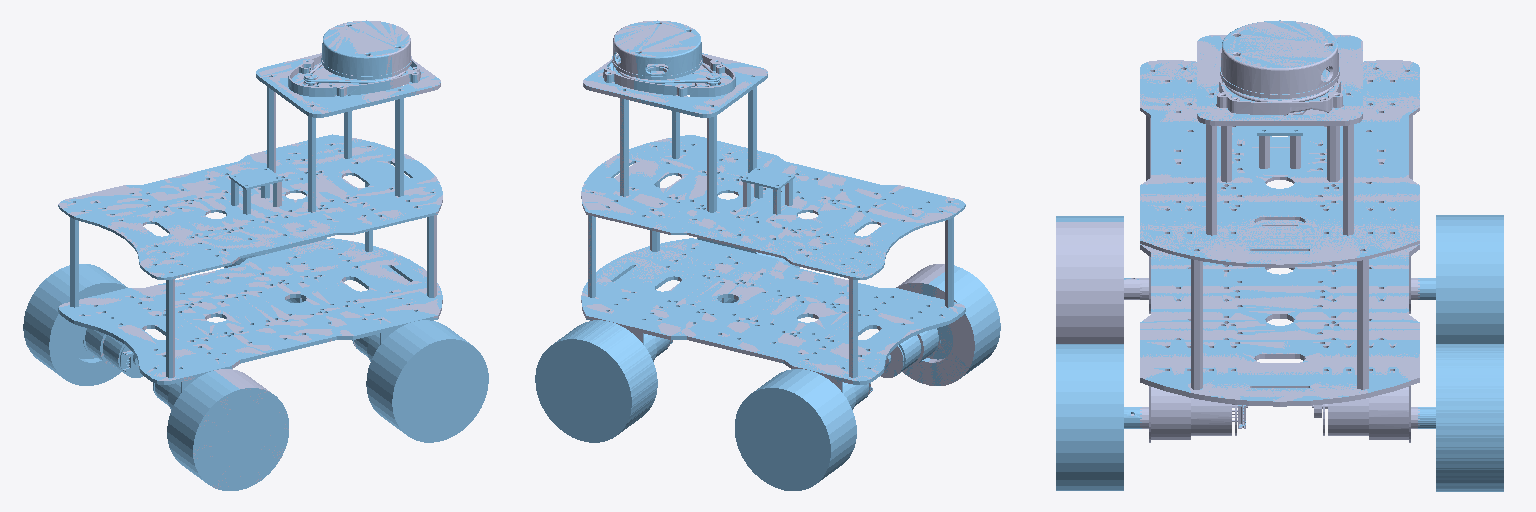
The robot description file, URDF, robot "amr":
<?xml version="1.0" encoding="utf-8"?>
<!-- This URDF was automatically created by SolidWorks to URDF Exporter! Originally created by Stephen Brawner (brawner@gmail.com)
     Commit Version: 1.6.0-4-g7f85cfe  Build Version: 1.6.7995.38578
     For more information, please see http://wiki.ros.org/sw_urdf_exporter -->
<robot
  name="amr">
  <link
    name="base_link">
    <inertial>
      <origin
        xyz="0.0044782147453029 -5.0141675046928E-06 -0.0136543452666141"
        rpy="0 0 0" />
      <mass
        value="1.14425821971134" />
      <inertia
        ixx="0.000779011035824372"
        ixy="-3.98443002922969E-07"
        ixz="-1.13246997157395E-07"
        iyy="0.00156380548586875"
        iyz="-3.1534699776021E-08"
        izz="0.00170358111834897" />
    </inertial>
    <visual>
      <origin
        xyz="0 0 0"
        rpy="0 0 0" />
      <geometry>
        <mesh
          filename="package://amr_description/meshes/base_link.STL" />
      </geometry>
      <material
        name="">
        <color
          rgba="0.611764705882353 0.835294117647059 1 1" />
      </material>
    </visual>
    <collision>
      <origin
        xyz="0 0 0"
        rpy="0 0 0" />
      <geometry>
        <mesh
          filename="package://amr_description/meshes/base_link.STL" />
      </geometry>
    </collision>
  </link>
  <link
    name="LiDAR_Link">
    <inertial>
      <origin
        xyz="-0.079672 -0.0001513 -0.16965"
        rpy="0 0 0" />
      <mass
        value="0.42927" />
      <inertia
        ixx="0.00040576"
        ixy="-4.0121E-07"
        ixz="-1.1333E-07"
        iyy="0.0009748"
        iyz="-3.3591E-08"
        izz="0.0013302" />
    </inertial>
    <visual>
      <origin
        xyz="0 0 0"
        rpy="0 0 0" />
      <geometry>
        <mesh
          filename="package://amr_description/meshes/LiDAR_Link.STL" />
      </geometry>
      <material
        name="">
        <color
          rgba="0.79216 0.81961 0.93333 1" />
      </material>
    </visual>
    <collision>
      <origin
        xyz="0 0 0"
        rpy="0 0 0" />
      <geometry>
        <mesh
          filename="package://amr_description/meshes/LiDAR_Link.STL" />
      </geometry>
    </collision>
  </link>
  <joint
    name="base-lidar_joint"
    type="fixed">
    <origin
      xyz="0.091609 0.00013794 0.192"
      rpy="0 0 0" />
    <parent
      link="base_link" />
    <child
      link="LiDAR_Link" />
    <axis
      xyz="0 0 0" />
  </joint>
  <link
    name="IMU_Link">
    <inertial>
      <origin
        xyz="0.006828 -5.6201E-07 -0.092633"
        rpy="0 0 0" />
      <mass
        value="0.39923" />
      <inertia
        ixx="0.00039695"
        ixy="-2.7396E-07"
        ixz="1.3304E-16"
        iyy="0.0009604"
        iyz="-6.4092E-15"
        izz="0.0013079" />
    </inertial>
    <visual>
      <origin
        xyz="0 0 0"
        rpy="0 0 0" />
      <geometry>
        <mesh
          filename="package://amr_description/meshes/IMU_Link.STL" />
      </geometry>
      <material
        name="">
        <color
          rgba="0.79216 0.81961 0.93333 1" />
      </material>
    </visual>
    <collision>
      <origin
        xyz="0 0 0"
        rpy="0 0 0" />
      <geometry>
        <mesh
          filename="package://amr_description/meshes/IMU_Link.STL" />
      </geometry>
    </collision>
  </link>
  <joint
    name="base-imu_joint"
    type="fixed">
    <origin
      xyz="0 0 0.1036"
      rpy="0 0 0" />
    <parent
      link="base_link" />
    <child
      link="IMU_Link" />
    <axis
      xyz="0 0 0" />
  </joint>
  <link
    name="front-left-wheel_link">
    <inertial>
      <origin
        xyz="-0.052234 -0.07097 0.031893"
        rpy="0 0 0" />
      <mass
        value="0.57648" />
      <inertia
        ixx="0.00049018"
        ixy="-2.7274E-07"
        ixz="1.2728E-10"
        iyy="0.0011075"
        iyz="8.0386E-10"
        izz="0.001401" />
    </inertial>
    <visual>
      <origin
        xyz="0 0 0"
        rpy="0 0 0" />
      <geometry>
        <mesh
          filename="package://amr_description/meshes/front-left-wheel_link.STL" />
      </geometry>
      <material
        name="">
        <color
          rgba="0.61176 0.83529 1 1" />
      </material>
    </visual>
    <collision>
      <origin
        xyz="0 0 0"
        rpy="0 0 0" />
      <geometry>
        <mesh
          filename="package://amr_description/meshes/front-left-wheel_link.STL" />
      </geometry>
    </collision>
  </link>
  <joint
    name="base-front-left-wheel_joint"
    type="continuous">
    <origin
      xyz="0.0825 0.1031 -0.0355"
      rpy="0 0 0" />
    <parent
      link="base_link" />
    <child
      link="front-left-wheel_link" />
    <axis
      xyz="0 -1 0" />
  </joint>
  <link
    name="rear-left-wheel_link">
    <inertial>
      <origin
        xyz="0.061691 -0.07097 0.031892"
        rpy="0 0 0" />
      <mass
        value="0.57648" />
      <inertia
        ixx="0.00049018"
        ixy="-2.7316E-07"
        ixz="-1.2674E-10"
        iyy="0.0011075"
        iyz="-1.2292E-09"
        izz="0.001401" />
    </inertial>
    <visual>
      <origin
        xyz="0 0 0"
        rpy="0 0 0" />
      <geometry>
        <mesh
          filename="package://amr_description/meshes/rear-left-wheel_link.STL" />
      </geometry>
      <material
        name="">
        <color
          rgba="0.61176 0.83529 1 1" />
      </material>
    </visual>
    <collision>
      <origin
        xyz="0 0 0"
        rpy="0 0 0" />
      <geometry>
        <mesh
          filename="package://amr_description/meshes/rear-left-wheel_link.STL" />
      </geometry>
    </collision>
  </link>
  <joint
    name="base-rear-left-wheel_joint"
    type="continuous">
    <origin
      xyz="-0.0825 0.1031 -0.0355"
      rpy="0 0 0" />
    <parent
      link="base_link" />
    <child
      link="rear-left-wheel_link" />
    <axis
      xyz="0 -1 0" />
  </joint>
  <link
    name="front-right-wheel_link">
    <inertial>
      <origin
        xyz="-0.052234 0.070969 0.031892"
        rpy="0 0 0" />
      <mass
        value="0.57648" />
      <inertia
        ixx="0.00049018"
        ixy="-2.7293E-07"
        ixz="1.3874E-10"
        iyy="0.0011075"
        iyz="1.0437E-09"
        izz="0.001401" />
    </inertial>
    <visual>
      <origin
        xyz="0 0 0"
        rpy="0 0 0" />
      <geometry>
        <mesh
          filename="package://amr_description/meshes/front-right-wheel_link.STL" />
      </geometry>
      <material
        name="">
        <color
          rgba="0.61176 0.83529 1 1" />
      </material>
    </visual>
    <collision>
      <origin
        xyz="0 0 0"
        rpy="0 0 0" />
      <geometry>
        <mesh
          filename="package://amr_description/meshes/front-right-wheel_link.STL" />
      </geometry>
    </collision>
  </link>
  <joint
    name="base-front-right-wheel_joint"
    type="continuous">
    <origin
      xyz="0.0825 -0.1031 -0.0355"
      rpy="0 0 0" />
    <parent
      link="base_link" />
    <child
      link="front-right-wheel_link" />
    <axis
      xyz="0 1 0" />
  </joint>
  <link
    name="rear-right-wheel_link">
    <inertial>
      <origin
        xyz="0.061691 0.070969 0.031892"
        rpy="0 0 0" />
      <mass
        value="0.57648" />
      <inertia
        ixx="0.00049018"
        ixy="-2.7424E-07"
        ixz="-5.2383E-11"
        iyy="0.0011075"
        iyz="1.4381E-09"
        izz="0.001401" />
    </inertial>
    <visual>
      <origin
        xyz="0 0 0"
        rpy="0 0 0" />
      <geometry>
        <mesh
          filename="package://amr_description/meshes/rear-right-wheel_link.STL" />
      </geometry>
      <material
        name="">
        <color
          rgba="0.61176 0.83529 1 1" />
      </material>
    </visual>
    <collision>
      <origin
        xyz="0 0 0"
        rpy="0 0 0" />
      <geometry>
        <mesh
          filename="package://amr_description/meshes/rear-right-wheel_link.STL" />
      </geometry>
    </collision>
  </link>
  <joint
    name="base-rear-right-wheel_joint"
    type="continuous">
    <origin
      xyz="-0.0825 -0.1031 -0.0355"
      rpy="0 0 0" />
    <parent
      link="base_link" />
    <child
      link="rear-right-wheel_link" />
    <axis
      xyz="0 1 0" />
  </joint>
</robot>

--- Render facts (derived) ---
The picture shows the robot from 3 angles, left to right: view 1: azimuth 30°, elevation 25°; view 2: azimuth 150°, elevation 25°; view 3: azimuth 270°, elevation 25°; orthographic projection.
Robot: amr — 7 links, 6 joints (4 continuous, 2 fixed); root link base_link; default pose: all joints at 0.
Links seen in each view (by area): view 1: base_link, LiDAR_Link, rear-left-wheel_link, front-right-wheel_link; view 2: base_link, LiDAR_Link, rear-left-wheel_link, front-left-wheel_link; view 3: LiDAR_Link, base_link, rear-left-wheel_link, front-left-wheel_link.
Link boxes in pixels (<box>): base_link: <box>23,21,488,490</box>; LiDAR_Link: <box>58,20,442,488</box>; rear-left-wheel_link: <box>82,70,442,449</box>; front-right-wheel_link: <box>366,321,466,442</box>; base_link: <box>535,21,1000,490</box>; LiDAR_Link: <box>581,20,974,394</box>; rear-left-wheel_link: <box>584,63,965,402</box>; front-left-wheel_link: <box>535,320,657,441</box>; LiDAR_Link: <box>1056,21,1419,442</box>; base_link: <box>1056,20,1503,490</box>; rear-left-wheel_link: <box>1140,36,1435,426</box>; front-left-wheel_link: <box>1418,344,1503,491</box>.
Size in the robot's own frame: 0.2621 by 0.2434 by 0.2675 metres.
Meshes: 7 distinct files referenced, 7 mesh visuals loaded (7 binary STL).
